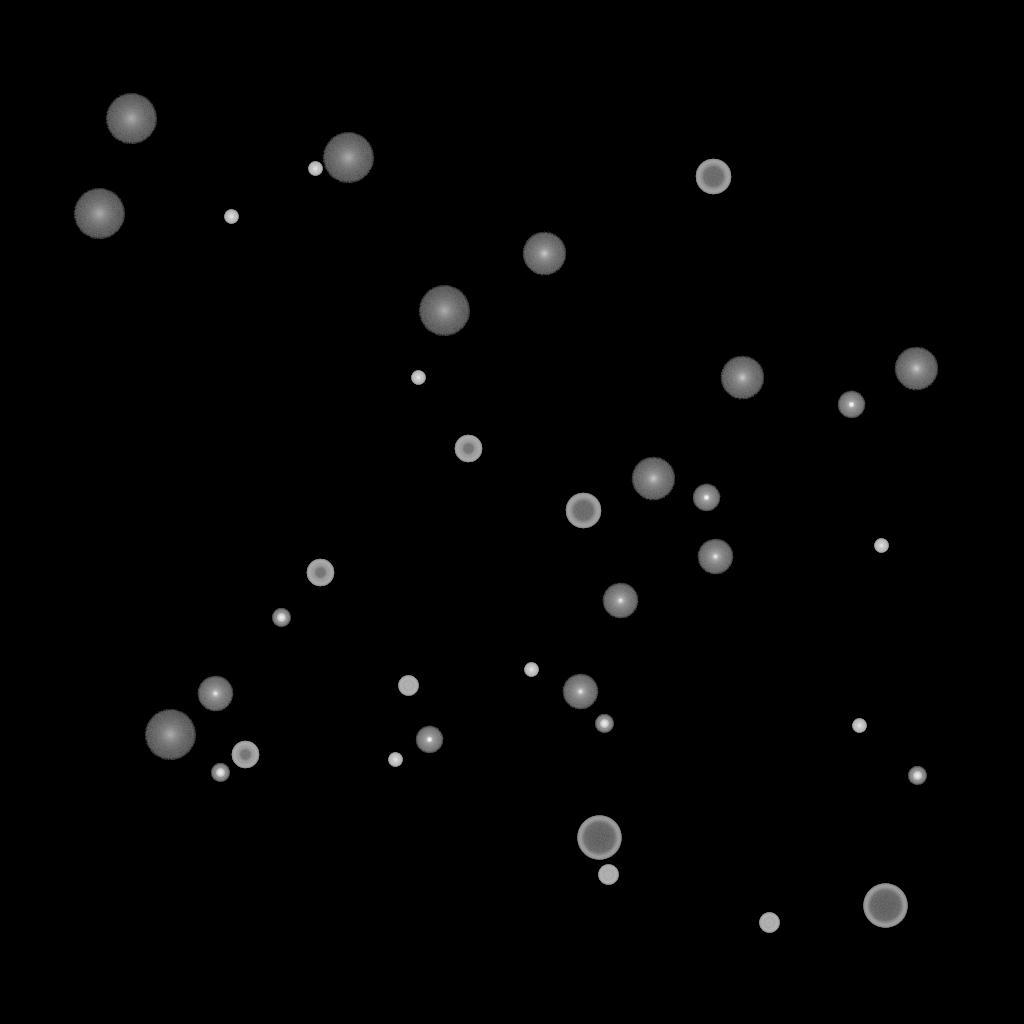depth:-10: (415, 726, 443, 754), (692, 484, 720, 512), (837, 391, 865, 419)
depth:-20: (908, 767, 926, 785), (595, 715, 613, 733), (272, 609, 290, 627), (211, 764, 229, 782)
depth:-30: (388, 753, 402, 767), (524, 663, 538, 677), (411, 371, 425, 385), (852, 719, 866, 733), (224, 210, 238, 224), (874, 539, 888, 553), (308, 162, 322, 176)
depth:-40: (759, 913, 779, 933), (598, 865, 618, 885), (398, 676, 418, 696)
depth:-50: (306, 559, 334, 587), (454, 435, 482, 463), (231, 741, 259, 769)
depth:-60: (565, 493, 601, 529), (695, 159, 731, 195)
depth:-70: (577, 816, 621, 860), (863, 884, 907, 928)
depth:0: (197, 676, 233, 712), (697, 539, 733, 575), (602, 583, 638, 619), (562, 674, 598, 710)
depth:10: (631, 457, 675, 501), (894, 347, 938, 391), (522, 232, 566, 276), (720, 356, 764, 400)
depth:20: (73, 189, 125, 239), (105, 94, 157, 144), (418, 286, 470, 336), (322, 133, 374, 183), (144, 710, 196, 760)
